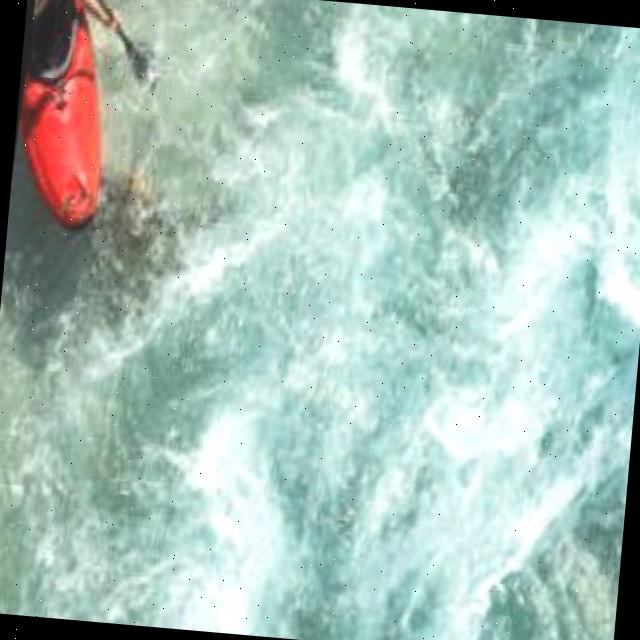kayak: (15, 0, 143, 234)
